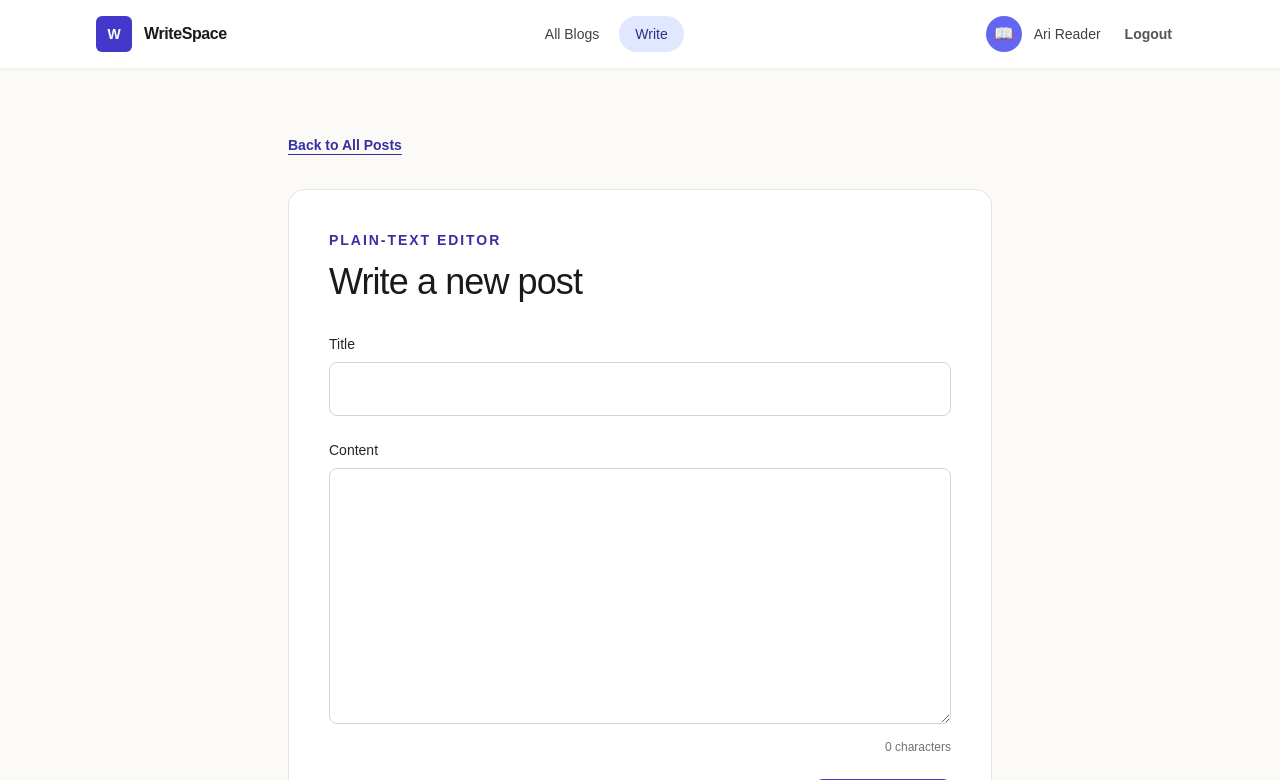
Test: post editor › creates and saves a valid post, then routes to the new reader page
Type "A draft made real" into the field labelled "Title" at coordinates (640, 389), box [329,362,951,416]
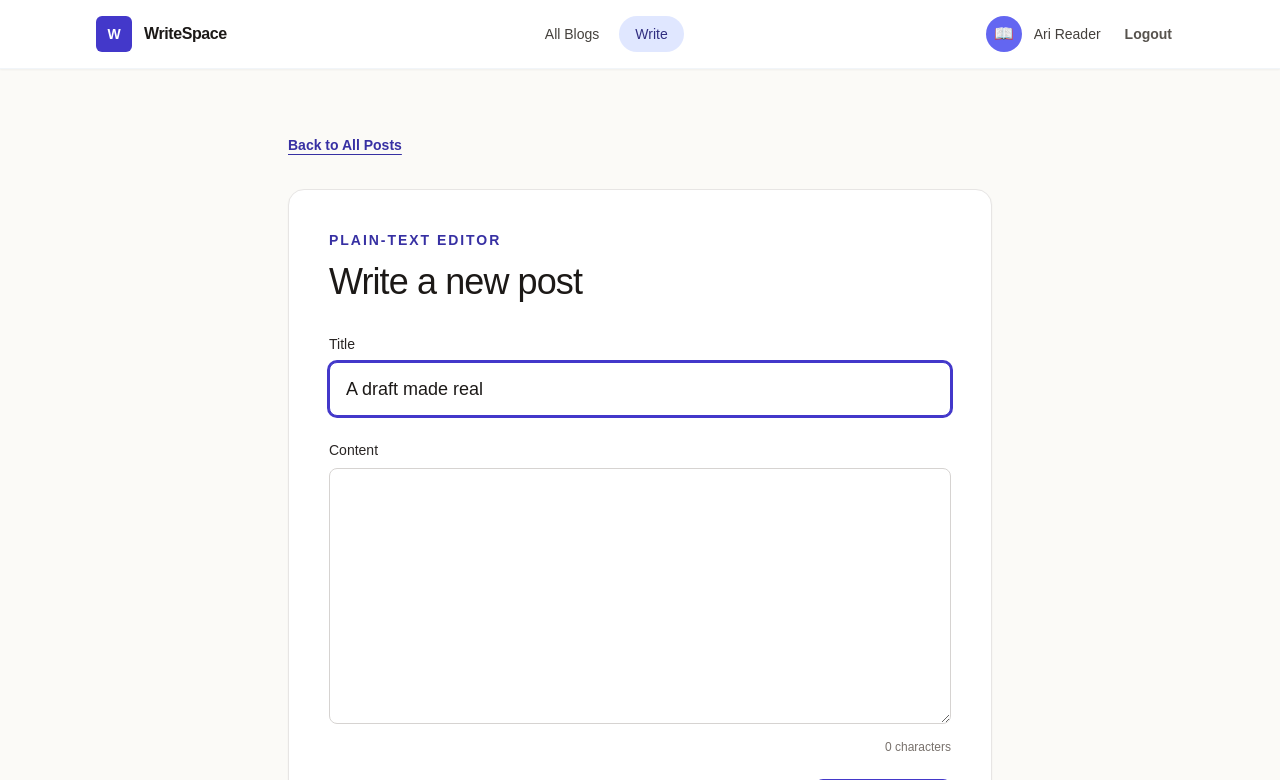
Type "The first line." into the text box labelled "Content" at coordinates (640, 596), box [329,468,951,724]
(page scrolled)
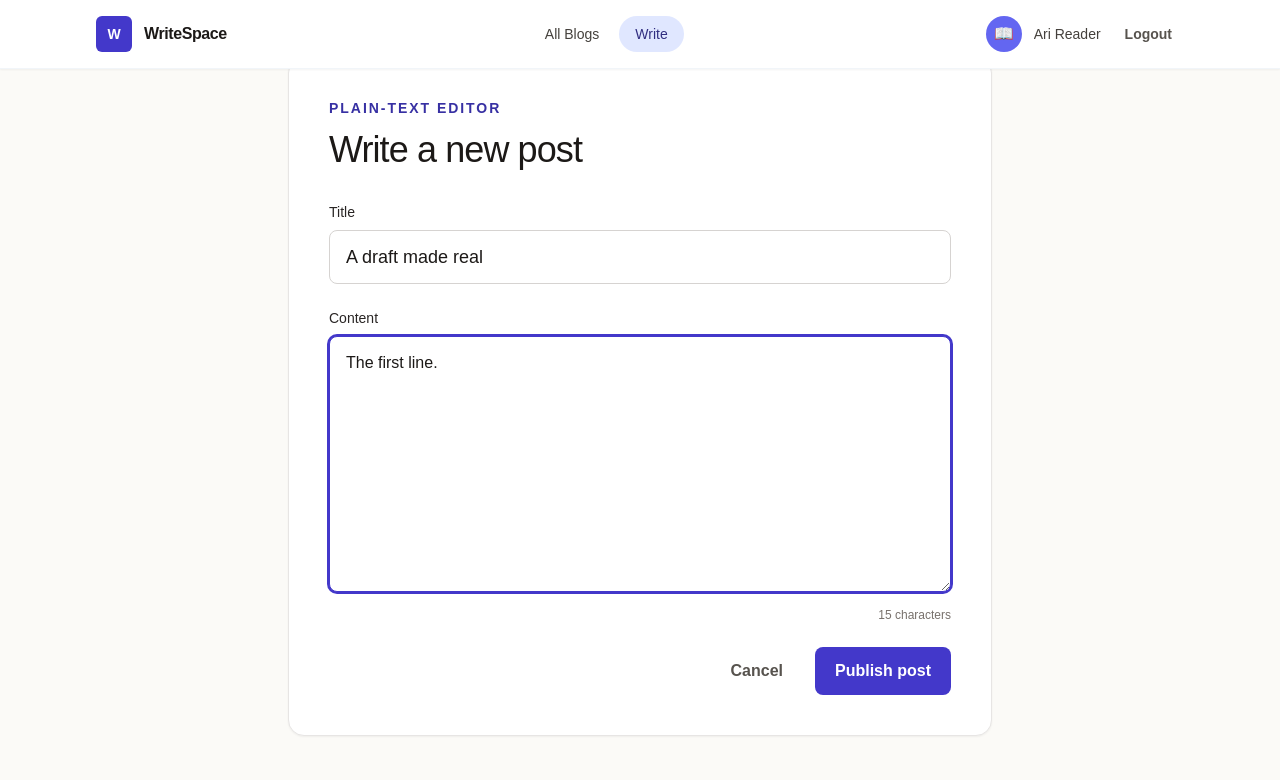
Expected: the text "15 characters" is shown, [878,608,951,622]
Click the button "Publish post" at coordinates (883, 671), box [815,647,951,695]
(page scrolled)
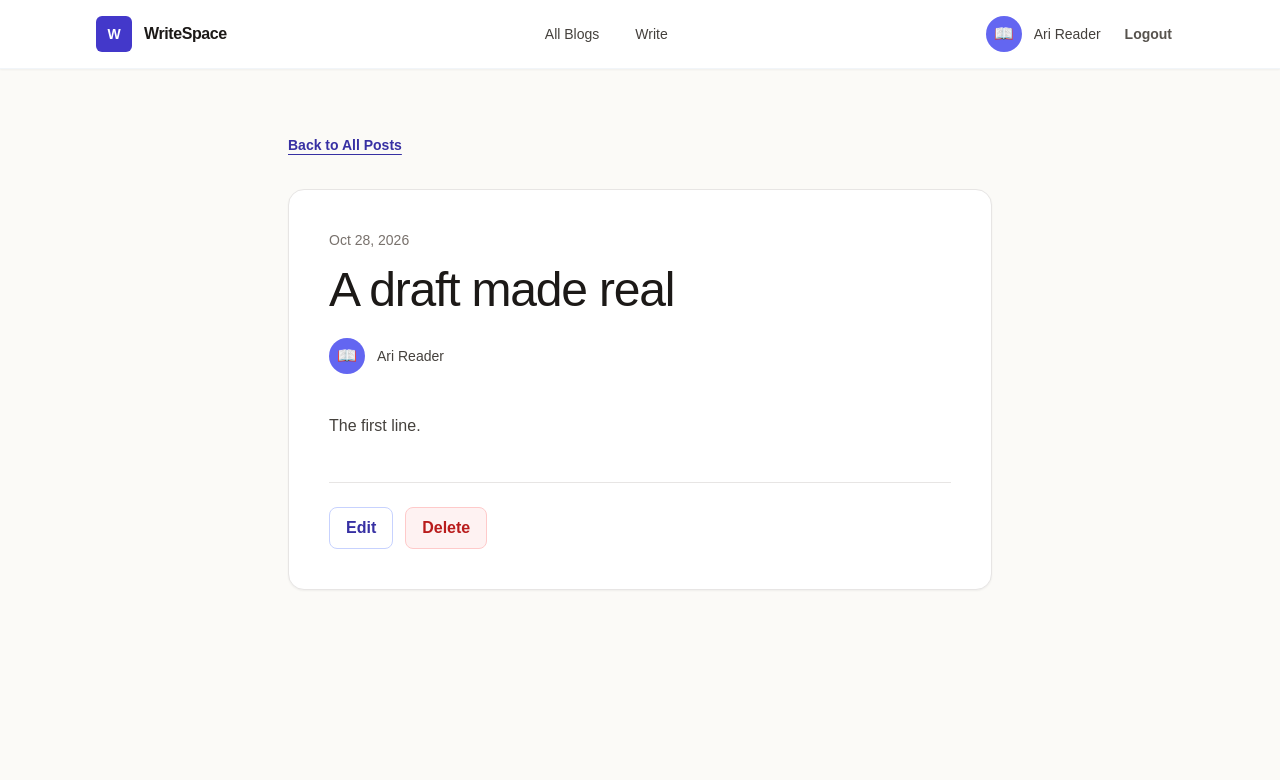
Expected: the heading "A draft made real" is shown, [329,263,674,316]
